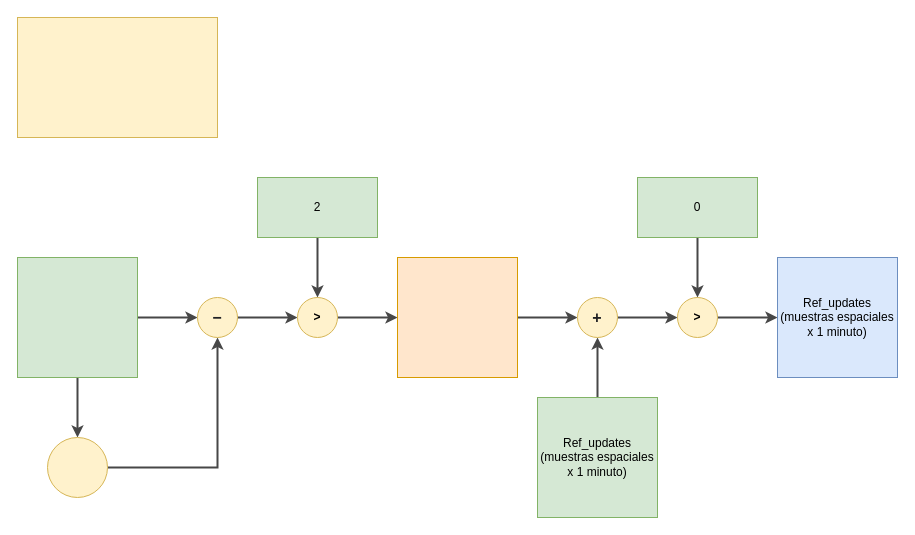
Some shapes in this 915 by 535 pixel diagram are drawn without their labels. Each missing label, with the centre of its shape:
"Condition_1 (muestras espaciales x 1 minuto)" belongs at point (457, 317).
"Data (muestras espaciales x 1 minuto)" belongs at point (77, 317).
"roll (y, -1)" belongs at point (77, 467).
"Window-based temporal smoothing" belongs at point (117, 77).
